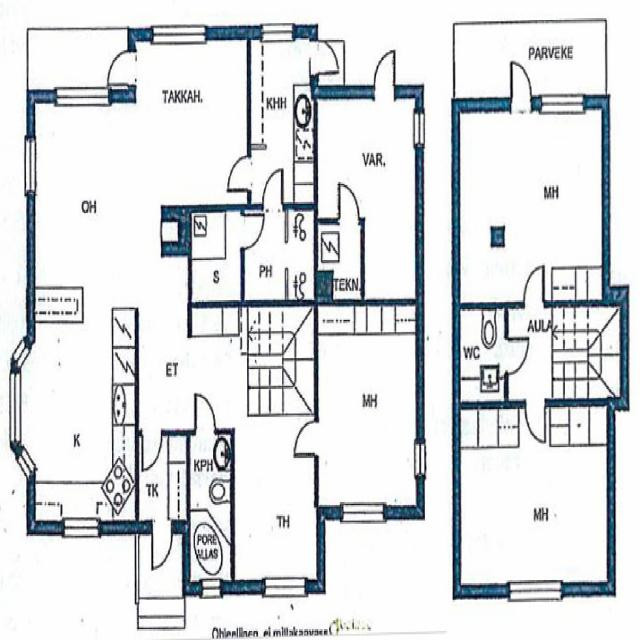door: (510, 63, 531, 111), (374, 54, 394, 103), (316, 40, 344, 74), (108, 50, 135, 84), (152, 520, 172, 565), (504, 337, 528, 373), (523, 264, 544, 304), (525, 399, 546, 439), (240, 214, 263, 247), (228, 156, 251, 189), (339, 185, 358, 224), (297, 421, 319, 454), (263, 170, 282, 208), (142, 429, 161, 467), (196, 395, 214, 435)
